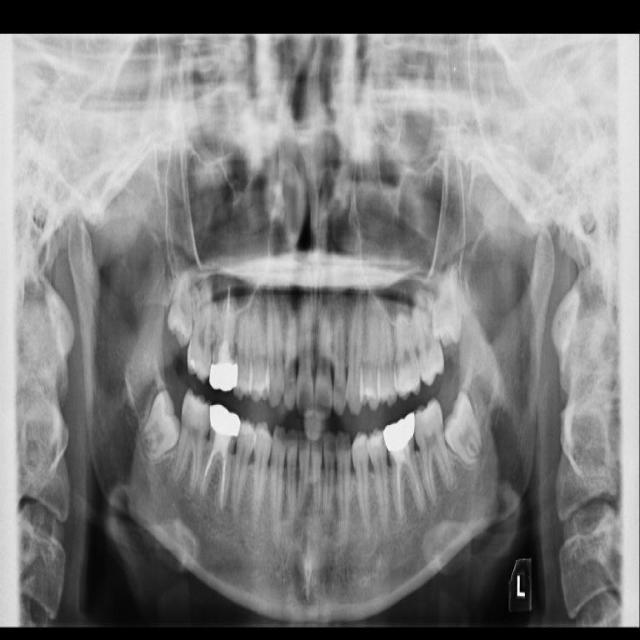3M ESPE Implant: (166, 268, 193, 347)
52: (376, 411, 427, 457), (199, 399, 248, 445), (183, 336, 215, 386), (207, 351, 241, 394)
73: (194, 424, 239, 512), (384, 434, 427, 521), (212, 279, 248, 358), (571, 578, 584, 587)
BioHorizons Implant: (407, 285, 448, 389)
BioLife Implant: (430, 254, 467, 350)
Biomet 3i Implant: (435, 389, 487, 469)
Blue Sky Bio Implant: (409, 396, 457, 503)
Caries: (185, 280, 213, 387)
Implant: (168, 388, 216, 495)
Keystone Dental Implant: (134, 388, 186, 459)
